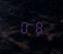eight: (31, 19, 42, 34)
zero: (19, 19, 30, 33)
